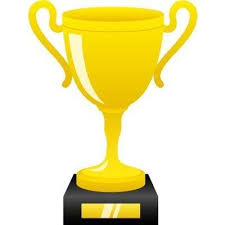trophy: (28, 1, 198, 225)
